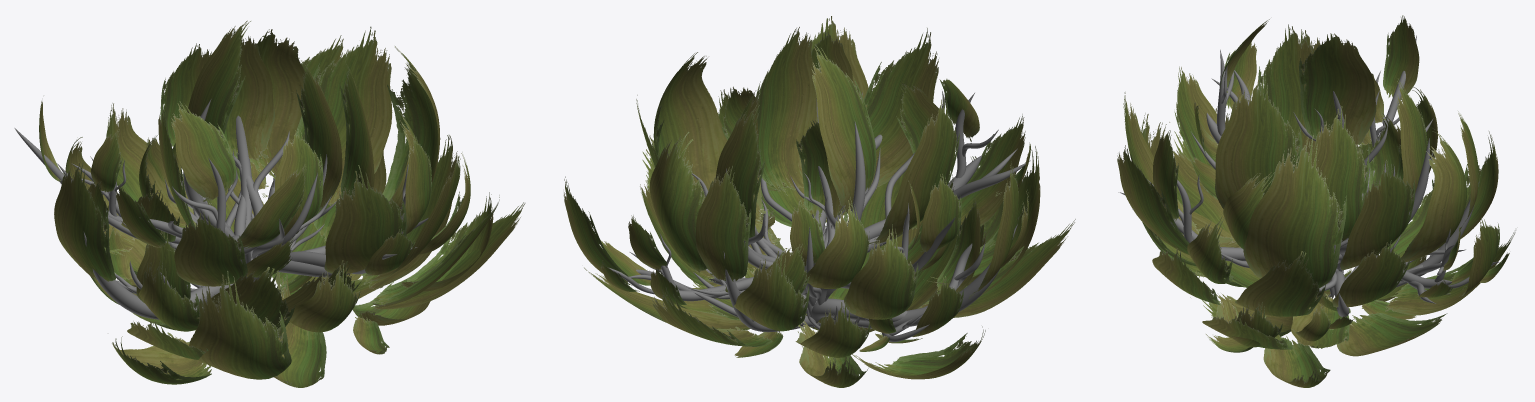
The model's file is Bush_Send_01.fbx.
3 views of the same model, side by side, from view 1: azimuth 30°, elevation 25°; view 2: azimuth 150°, elevation 25°; view 3: azimuth 270°, elevation 25° (orthographic). The views are drawn at different scales.
Parts seen in each view (by area): view 1: s.0177, s.0281, s.0103; view 2: s.0177, s.0281, s.0103; view 3: s.0177, s.0281, s.0103.
Boxes of the visible parts, x1,y1,x2,y2 form: s.0177: (39, 20, 525, 359); s.0281: (65, 29, 493, 387); s.0103: (14, 99, 428, 319); s.0177: (563, 16, 1075, 357); s.0281: (649, 52, 1040, 387); s.0103: (609, 91, 1030, 342); s.0177: (1117, 15, 1515, 356); s.0281: (1140, 87, 1498, 387); s.0103: (1118, 35, 1499, 317).
Bounding box in the file's own units: 54.48 × 41.06 × 50.13.
